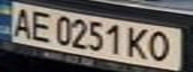0: (51, 13, 72, 46)
1: (103, 21, 124, 56)
2: (66, 16, 90, 50)
5: (84, 19, 106, 53)
A: (6, 4, 36, 38)
E: (24, 9, 57, 43)
K: (124, 25, 151, 61)
O: (145, 29, 178, 64)
